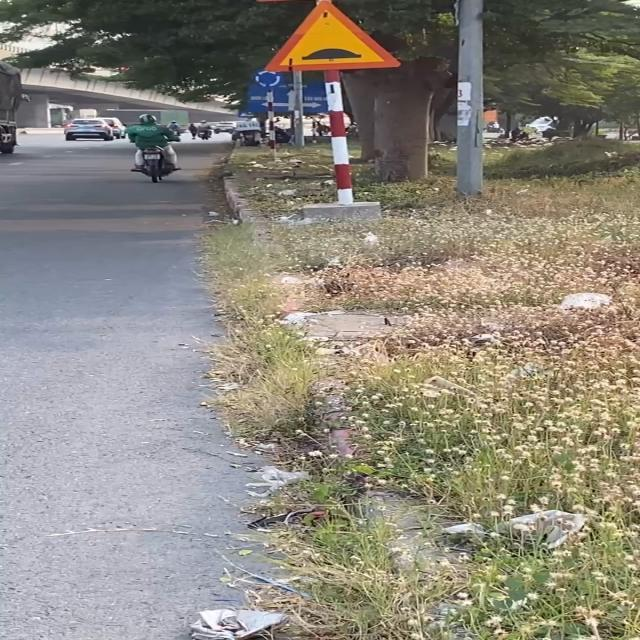221-duong-go-ghe: (265, 1, 403, 72)
303-noi-giao-nhau-chay-theo-vong-xuyen: (253, 68, 283, 88)
